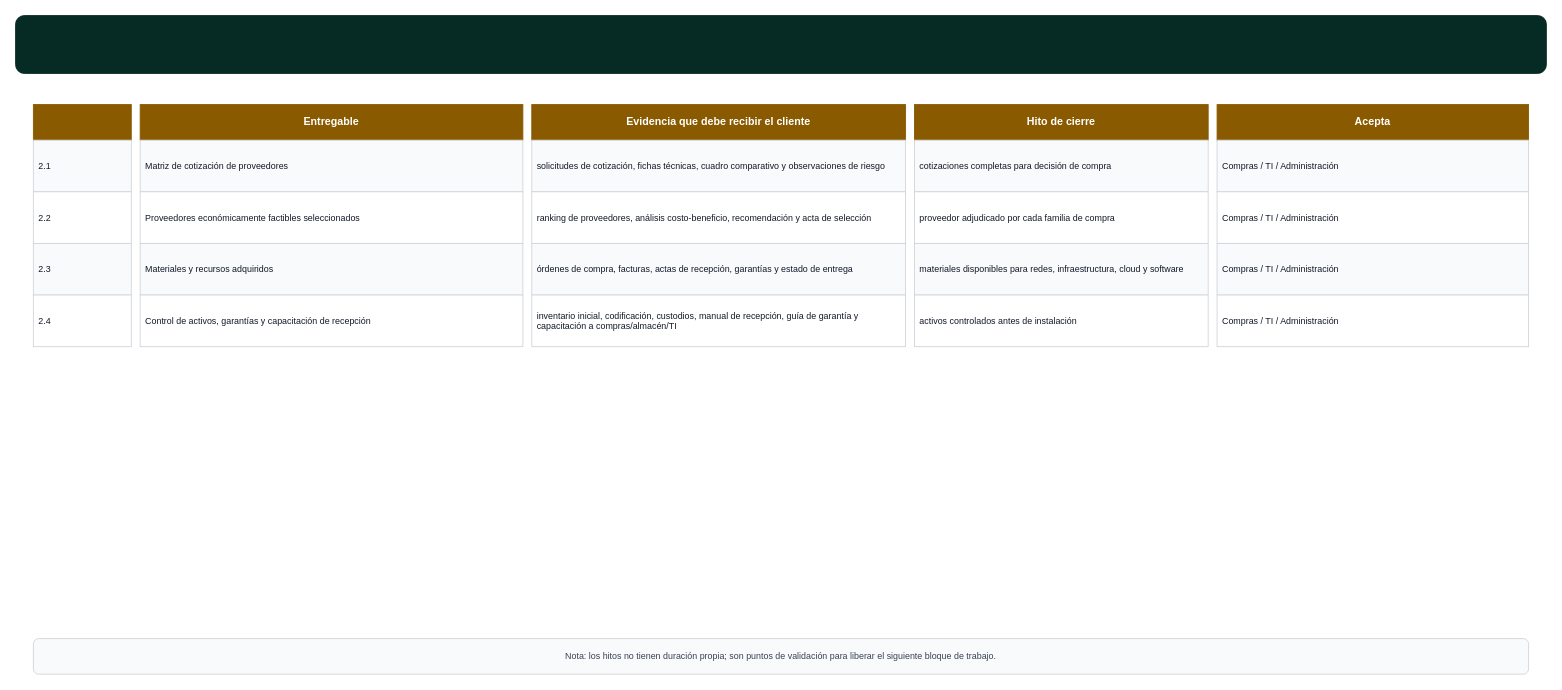
This 1562x690 diagram has some shape labels left out. The shapes that lost their labels are listed below. From the top down, each one's box as (x1, y1, x2, y2) in pixels, then its label:
(15, 15, 1546, 73): 2.0 ADQUISICIONES — Hitos, evidencias y aceptación
(32, 104, 131, 140): WBS
